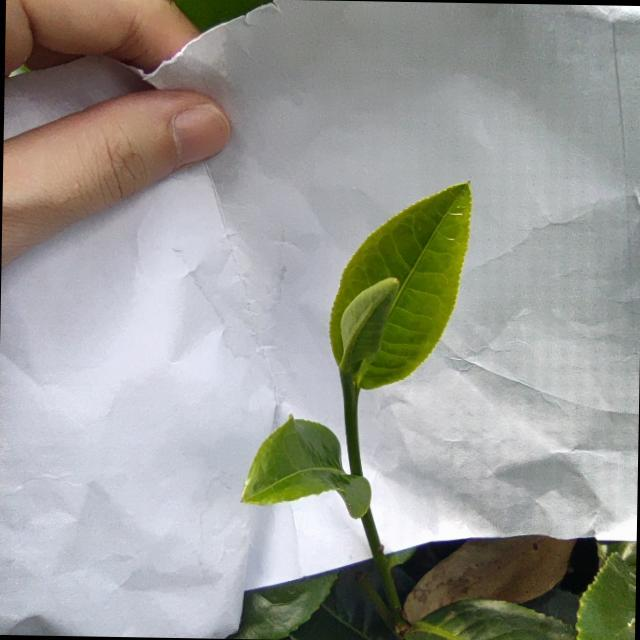Stem: (343, 384, 357, 403)
